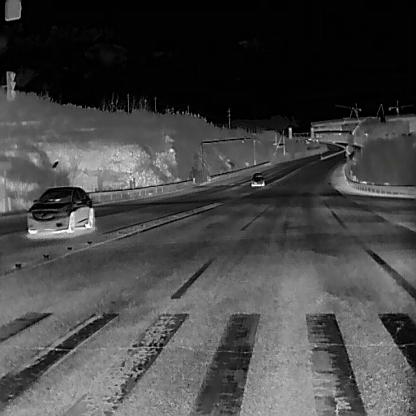car: (26, 185, 94, 233), (250, 171, 265, 187)
truck: (344, 144, 350, 154), (331, 137, 335, 143)
